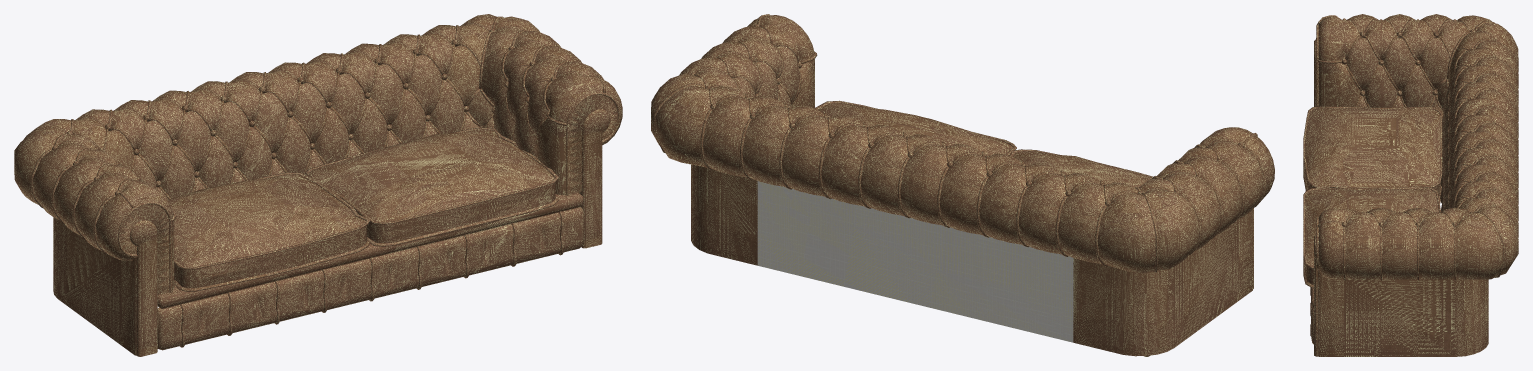
The picture shows the model from 3 angles, left to right: view 1: azimuth 30°, elevation 25°; view 2: azimuth 150°, elevation 25°; view 3: azimuth 270°, elevation 25°; orthographic projection. The views are drawn at different scales.
Visible parts, largest first — view 1: Component_21 (×6), Component_8 (×2), Component_24 (×8), Component_10 (×10), Component_6 (×10), Component_14 (×11), Component_7 (×2), Component_27, Component_22 (×3), Component_9, Component_11 (×2); view 2: Component_22 (×13), sofá3, Component_27 (×2), Component_7 (×2), Component_21 (×2), Component_8 (×2), Component_14 (×2), Component_10 (×2); view 3: Component_21 (×4), Component_22 (×16), Component_27, Component_8 (×2), Component_7 (×2), Component_14 (×12), Component_10 (×2), Component_6 (×2), Component_15.
Part boxes in pixels (bbox=[...]): Component_21 (×6): bbox=[168, 127, 558, 291]; Component_8 (×2): bbox=[95, 72, 622, 356]; Component_24 (×8): bbox=[183, 212, 560, 344]; Component_10 (×10): bbox=[139, 54, 548, 178]; Component_6 (×10): bbox=[160, 80, 536, 198]; Component_14 (×11): bbox=[110, 33, 562, 147]; Component_7 (×2): bbox=[14, 14, 540, 204]; Component_27: bbox=[53, 217, 120, 344]; Component_22 (×3): bbox=[32, 143, 127, 250]; Component_9: bbox=[157, 192, 583, 309]; Component_11 (×2): bbox=[157, 207, 584, 350]; Component_22 (×13): bbox=[703, 96, 1264, 263]; sofá3: bbox=[757, 181, 1073, 342]; Component_27 (×2): bbox=[691, 164, 1238, 356]; Component_7 (×2): bbox=[651, 69, 1199, 273]; Component_21 (×2): bbox=[817, 102, 1152, 187]; Component_8 (×2): bbox=[747, 15, 1274, 300]; Component_14 (×2): bbox=[721, 37, 781, 90]; Component_10 (×2): bbox=[756, 46, 799, 102]; Component_21 (×4): bbox=[1303, 106, 1442, 276]; Component_22 (×16): bbox=[1345, 14, 1518, 279]; Component_27: bbox=[1344, 279, 1488, 356]; Component_8 (×2): bbox=[1314, 16, 1360, 356]; Component_7 (×2): bbox=[1420, 15, 1518, 279]; Component_14 (×12): bbox=[1365, 20, 1493, 222]; Component_10 (×2): bbox=[1346, 38, 1415, 89]; Component_6 (×2): bbox=[1364, 65, 1434, 107]; Component_15: bbox=[1475, 211, 1505, 277].
Bounding box in the file's own units: 90.82 × 36.69 × 27.81.
Materials: 5 (3 with a texture image).
